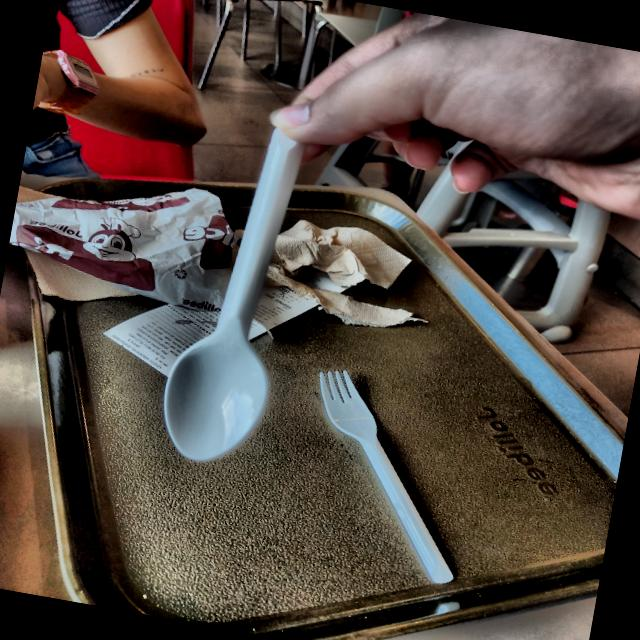plastic utensil: (163, 129, 303, 461), (319, 371, 453, 583)
